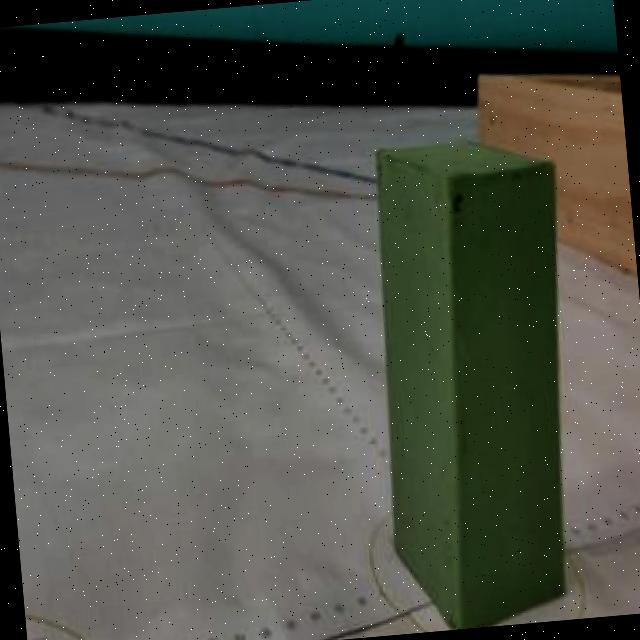greenbox: (357, 131, 598, 634)
